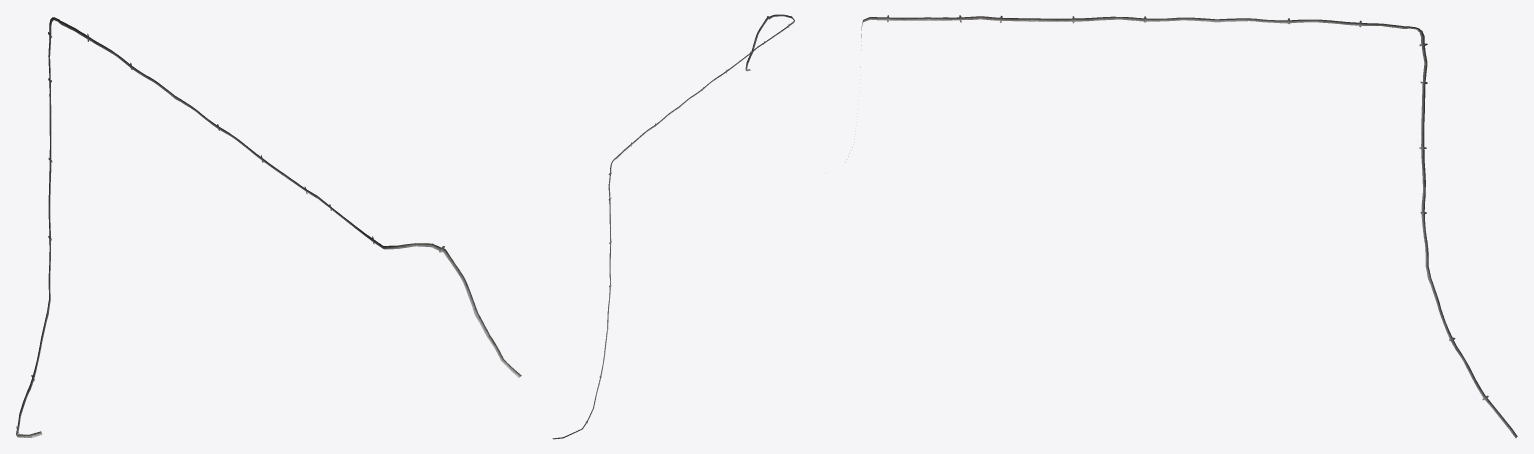
The model's file is ThickWire_T03.FBX.
The picture shows the model from 3 angles, left to right: view 1: azimuth 30°, elevation 25°; view 2: azimuth 150°, elevation 25°; view 3: azimuth 270°, elevation 25°; orthographic projection. The views are drawn at different scales.
Visible parts, largest first — view 1: ThickWire_T03; view 2: ThickWire_T03; view 3: ThickWire_T03.
Boxes of the visible parts, <box> form: ThickWire_T03: <box>16,17,521,437</box>; ThickWire_T03: <box>552,14,794,439</box>; ThickWire_T03: <box>845,15,1517,438</box>.
Bounding box in the file's own units: 47.18 × 197 × 306.
